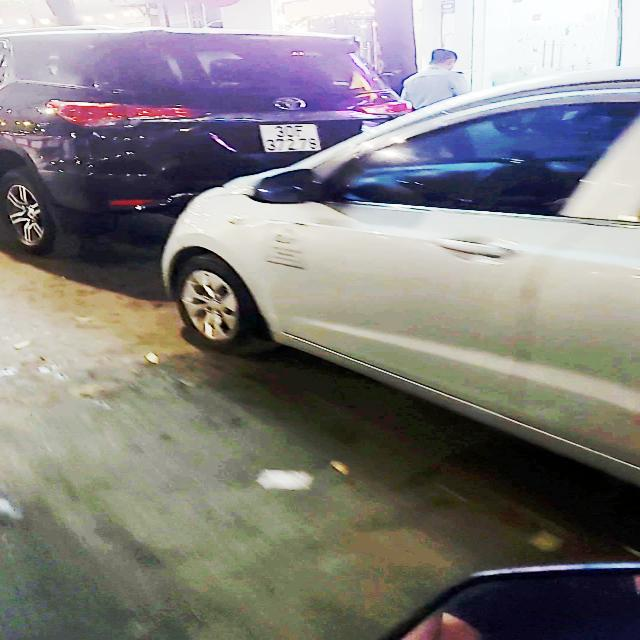license_plate: (260, 125, 323, 153)
